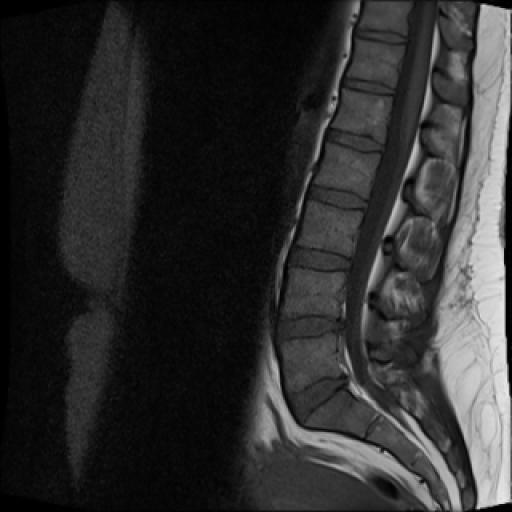L1: (331, 88, 393, 144)
L2: (313, 142, 380, 198)
L3: (296, 200, 363, 258)
L4: (281, 267, 346, 318)
L5: (278, 333, 342, 390)
S1: (300, 388, 375, 438)
